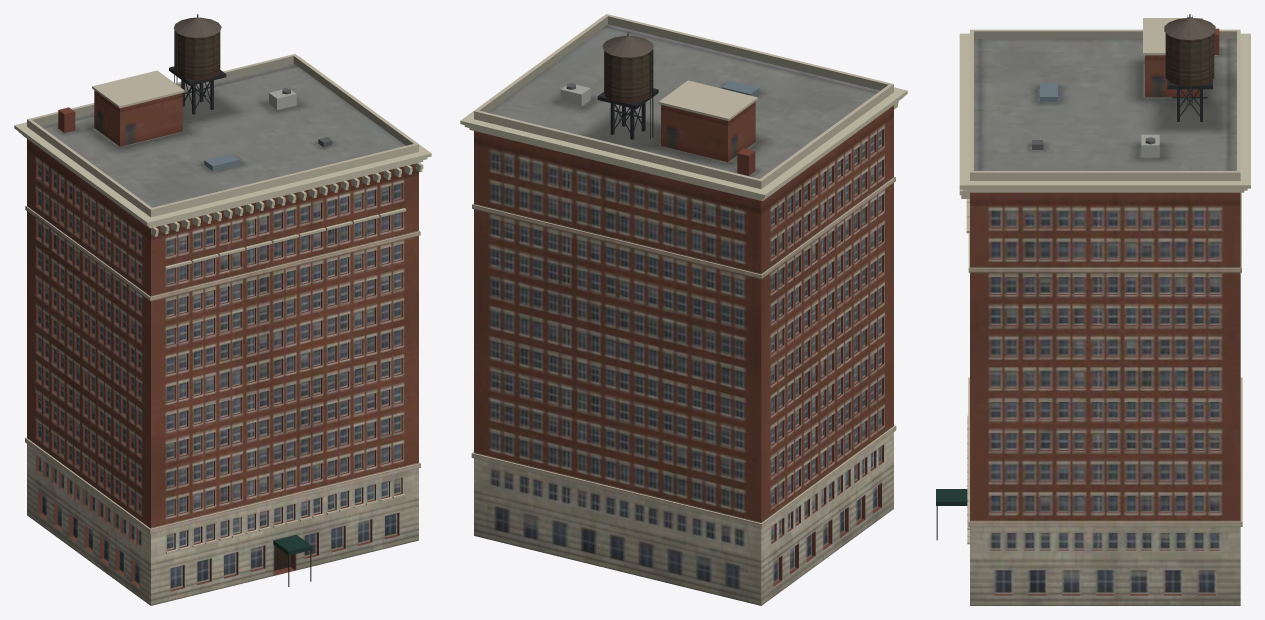
File: nyc_prewar_a.glb
3 renders of one model, left to right at view 1: azimuth 30°, elevation 25°; view 2: azimuth 150°, elevation 25°; view 3: azimuth 270°, elevation 25°, orthographic. The views are drawn at different scales.
Visible parts, largest first — view 1: nyc_prewar_a; view 2: nyc_prewar_a; view 3: nyc_prewar_a.
Part boxes in pixels (x1,y1,x2,y2): nyc_prewar_a: [14, 14, 431, 605]; nyc_prewar_a: [460, 14, 907, 605]; nyc_prewar_a: [936, 14, 1250, 605].
Bounding box in the file's own units: 31.8 × 51.55 × 27.9.
Materials: 1 (1 with a texture image).
